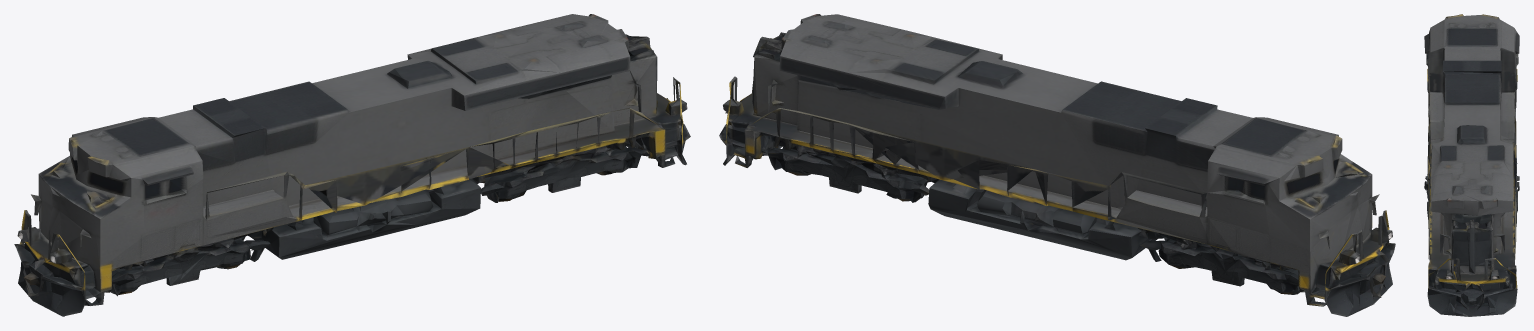
The model's file is Nicolas Jao - Deliverable 2.fbx.
3 renders of one model, left to right at view 1: azimuth 30°, elevation 25°; view 2: azimuth 150°, elevation 25°; view 3: azimuth 270°, elevation 25°, orthographic. The views are drawn at different scales.
Visible parts, largest first — view 1: Locomotive; view 2: Locomotive; view 3: Locomotive.
Boxes of the visible parts, x1,y1,x2,y2 form: Locomotive: (14, 14, 690, 316); Locomotive: (719, 14, 1395, 316); Locomotive: (1424, 14, 1519, 316).
Size of the model in its own units: 1800 by 372 by 321.
Materials: 1 (1 with a texture image).
